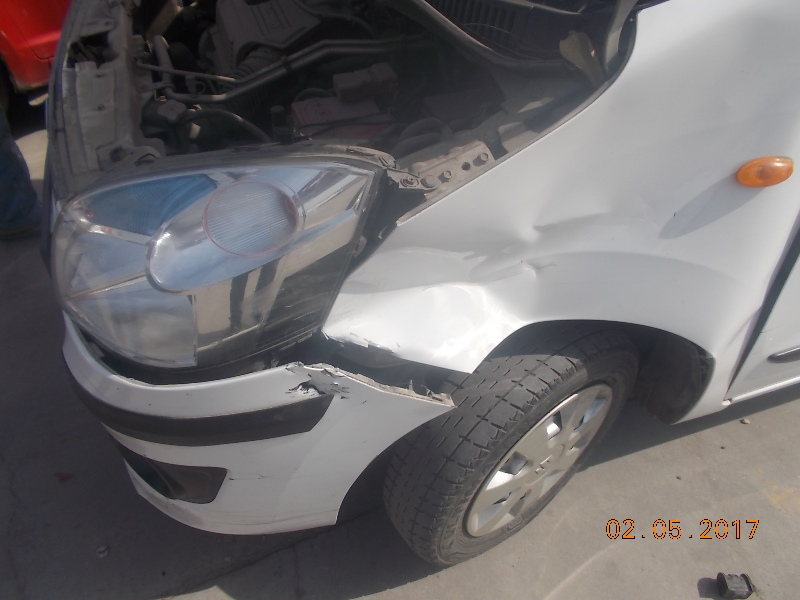Dent: (407, 234, 536, 309), (370, 258, 402, 317)
Dislocation: (298, 326, 467, 442)
